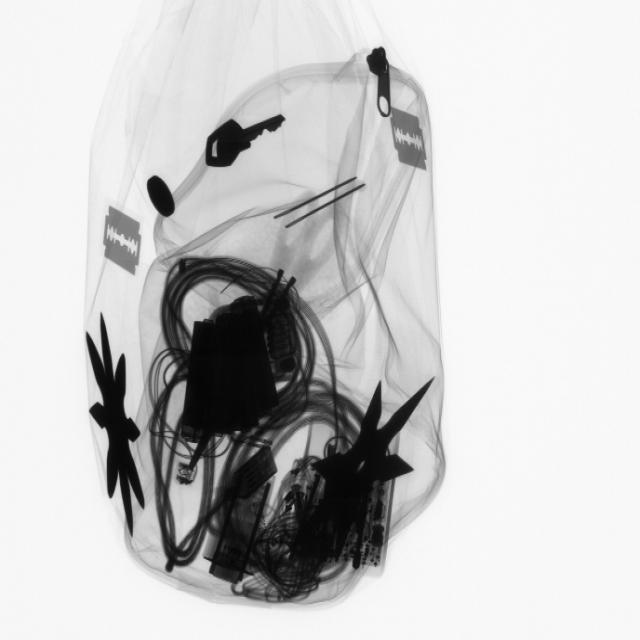BLADE: (385, 100, 434, 175), (100, 202, 148, 276)
SHURIKEN: (309, 376, 419, 559), (85, 314, 150, 545)
